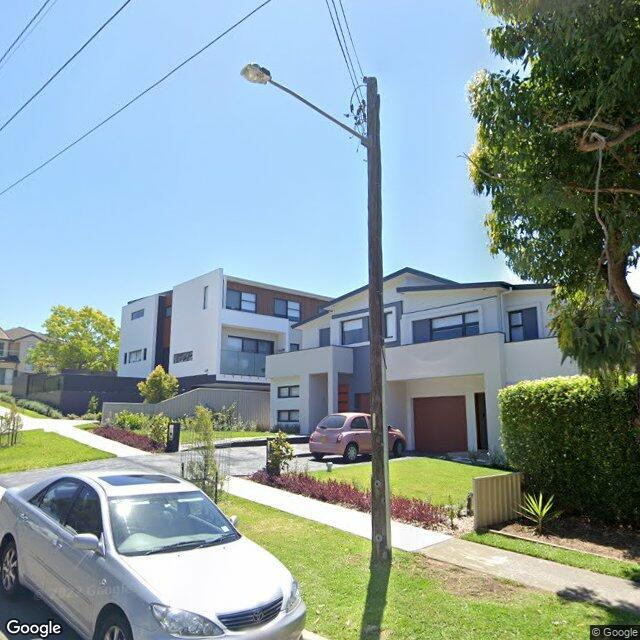streetlight: (243, 63, 368, 148)
timber-pole: (366, 77, 392, 564)
